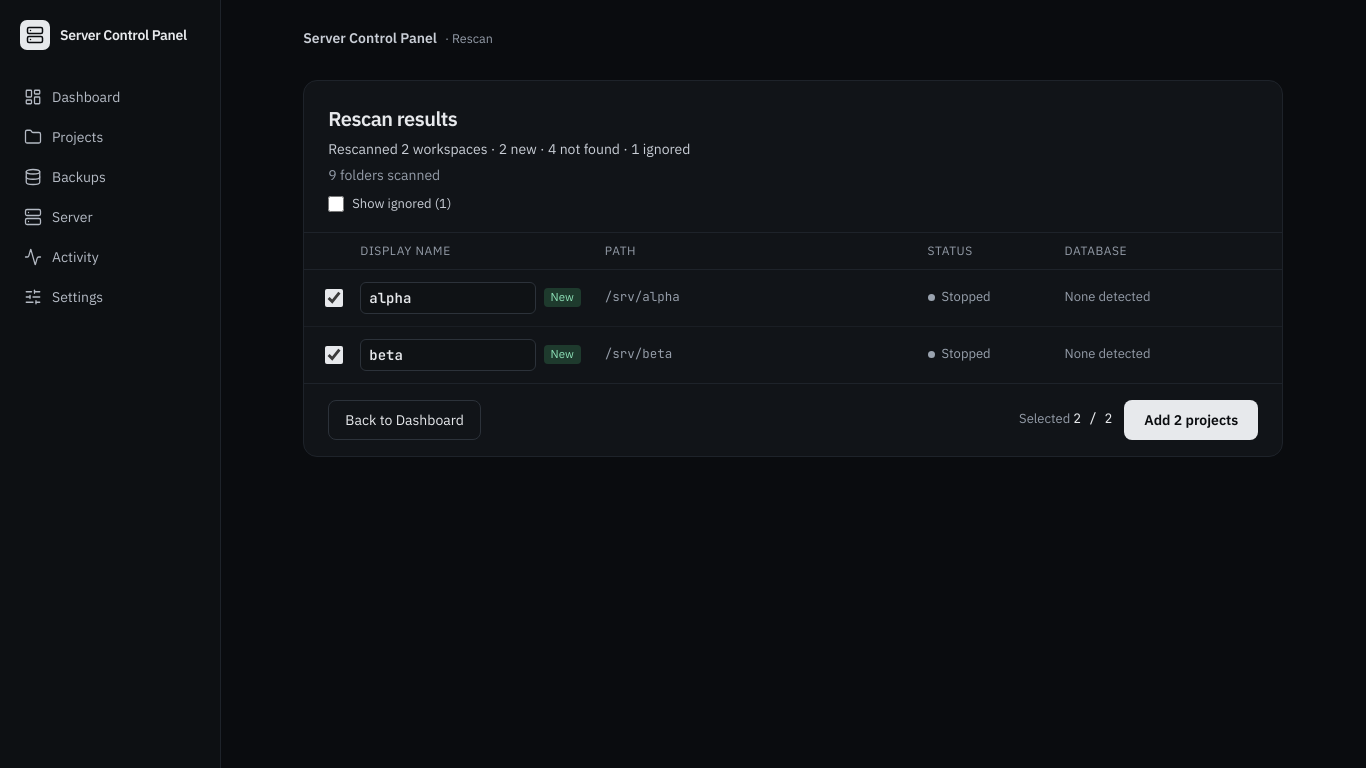
Test: rescan page, results › shows a track error and stays on the page
Expected: the heading "Rescan results" is shown, [328, 105, 457, 132]
Click the button "Add 2 projects" at (1191, 420), box [1124, 400, 1258, 440]
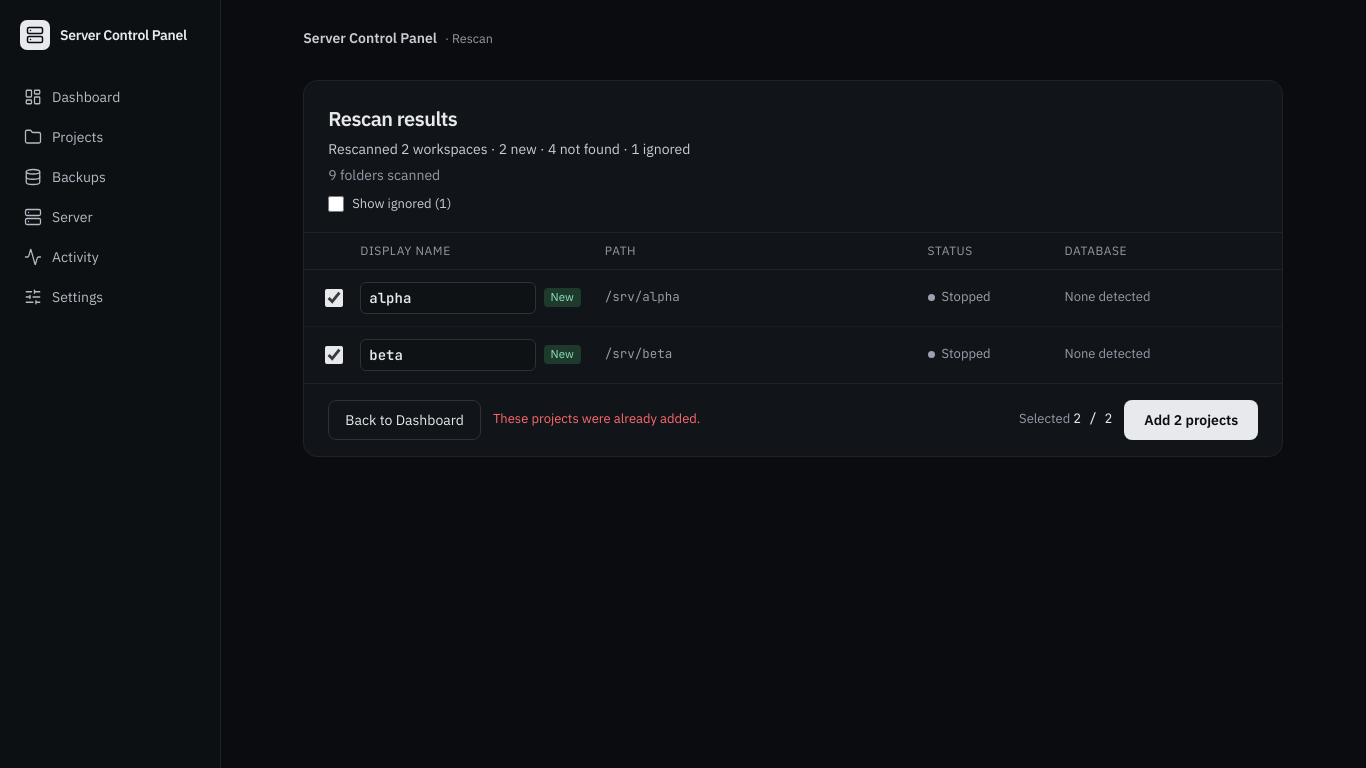
Expected: the heading "Rescan results" is shown, [328, 105, 457, 132]
Now the text "These projects were already added." is shown, box [493, 410, 700, 429]
